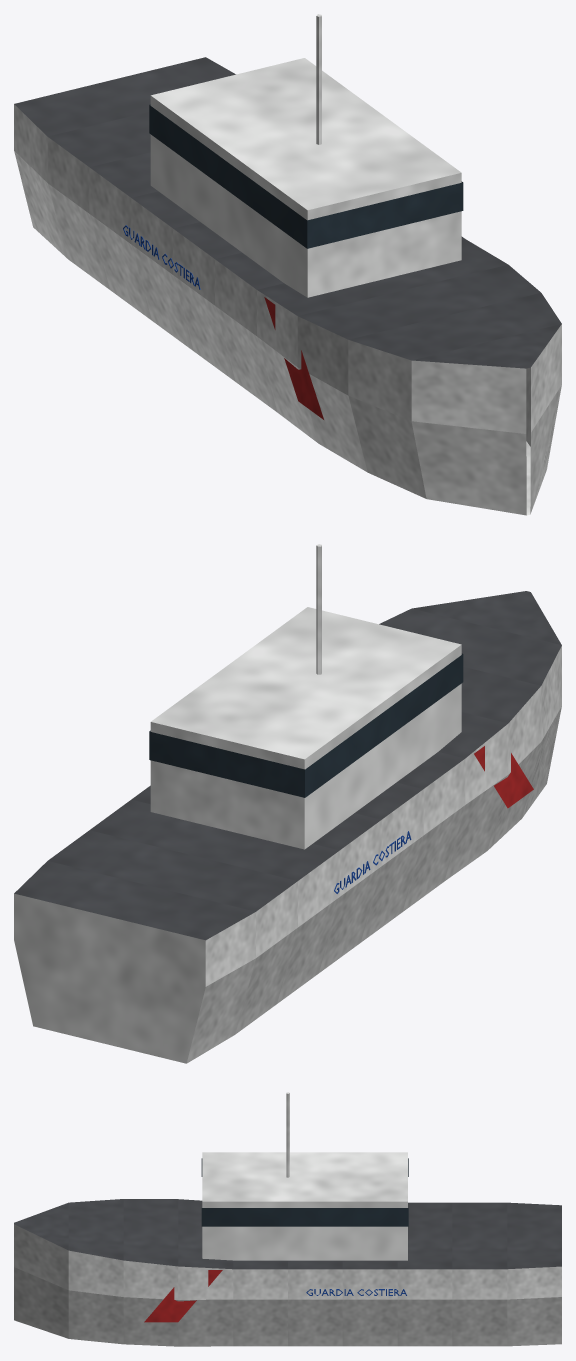
File: SM_MoloItalia_Motovedetta_v2.fbx
The picture shows the model from 3 angles, top to bottom: view 1: azimuth 30°, elevation 25°; view 2: azimuth 150°, elevation 25°; view 3: azimuth 270°, elevation 25°; orthographic projection. The views are drawn at different scales.
Parts seen in each view (by area): view 1: SM_MoloItalia_Motovedetta_v2; view 2: SM_MoloItalia_Motovedetta_v2; view 3: SM_MoloItalia_Motovedetta_v2.
Part boxes in pixels (x1,y1,x2,y2): SM_MoloItalia_Motovedetta_v2: (14,14,561,515); SM_MoloItalia_Motovedetta_v2: (14,544,561,1063); SM_MoloItalia_Motovedetta_v2: (14,1092,561,1346).
Size of what is drawn, in the model's own units: 466 by 1600 by 730.
Materials: 1 (1 with a texture image).
